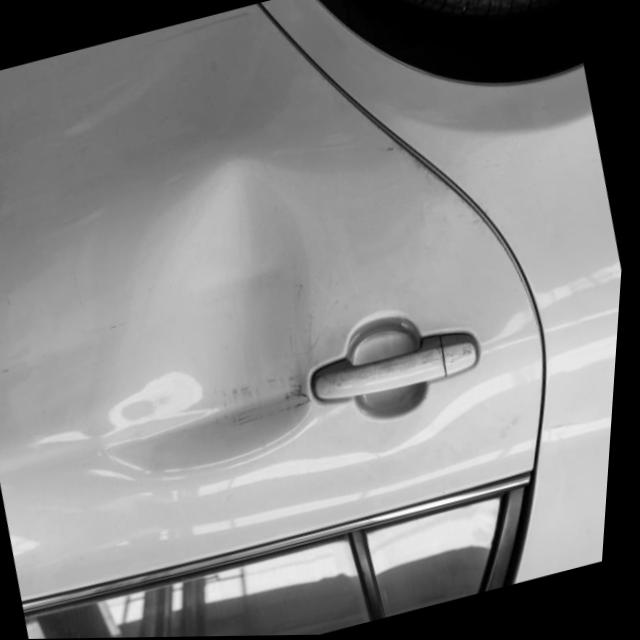Dent: (45, 133, 362, 510)
